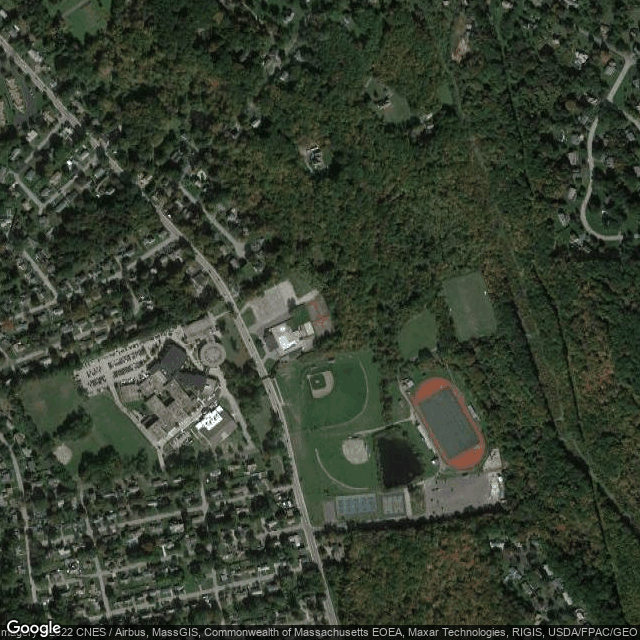Court: (366, 496, 378, 511), (336, 499, 347, 515), (357, 498, 367, 512), (345, 499, 355, 513)
